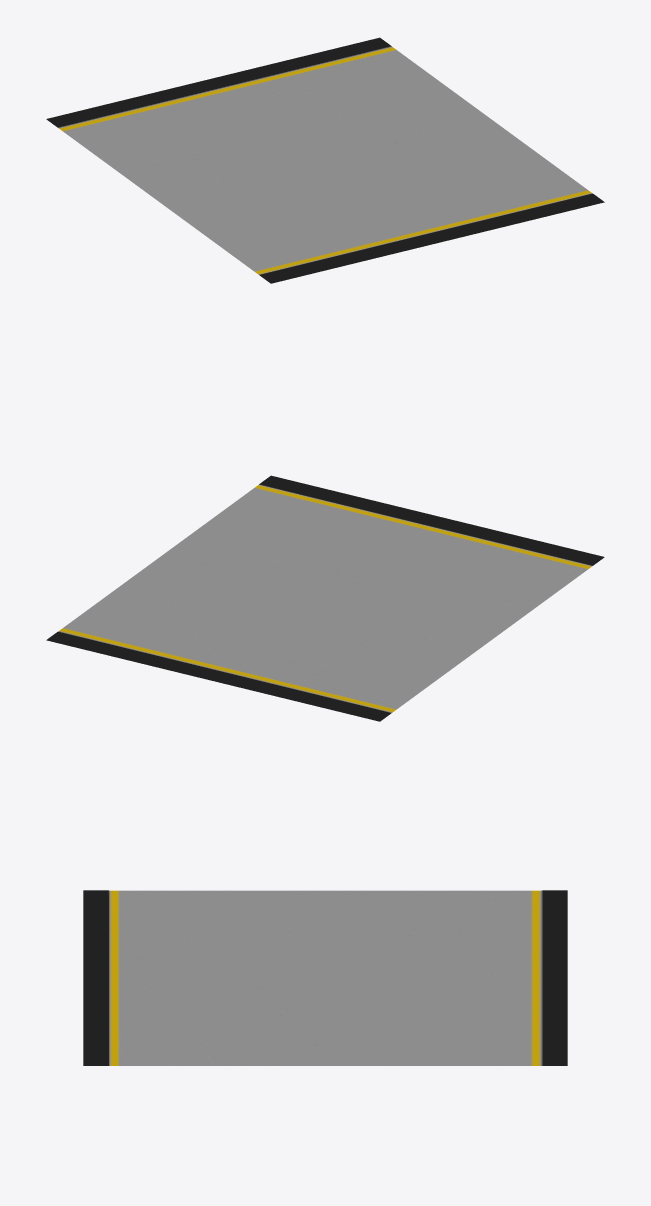
File: floor-1_2.fbx
The picture shows the model from 3 angles, top to bottom: view 1: azimuth 30°, elevation 25°; view 2: azimuth 150°, elevation 25°; view 3: azimuth 270°, elevation 25°; orthographic projection. The views are drawn at different scales.
Parts seen in each view (by area): view 1: pCube32; view 2: pCube32; view 3: pCube32.
Boxes of the visible parts, x1,y1,x2,y2 form: pCube32: [46, 37, 604, 283]; pCube32: [46, 475, 604, 721]; pCube32: [83, 890, 567, 1065].
Bounding box in the file's own units: 3 × 1 × 4.5.
1 material, 1 textured.
